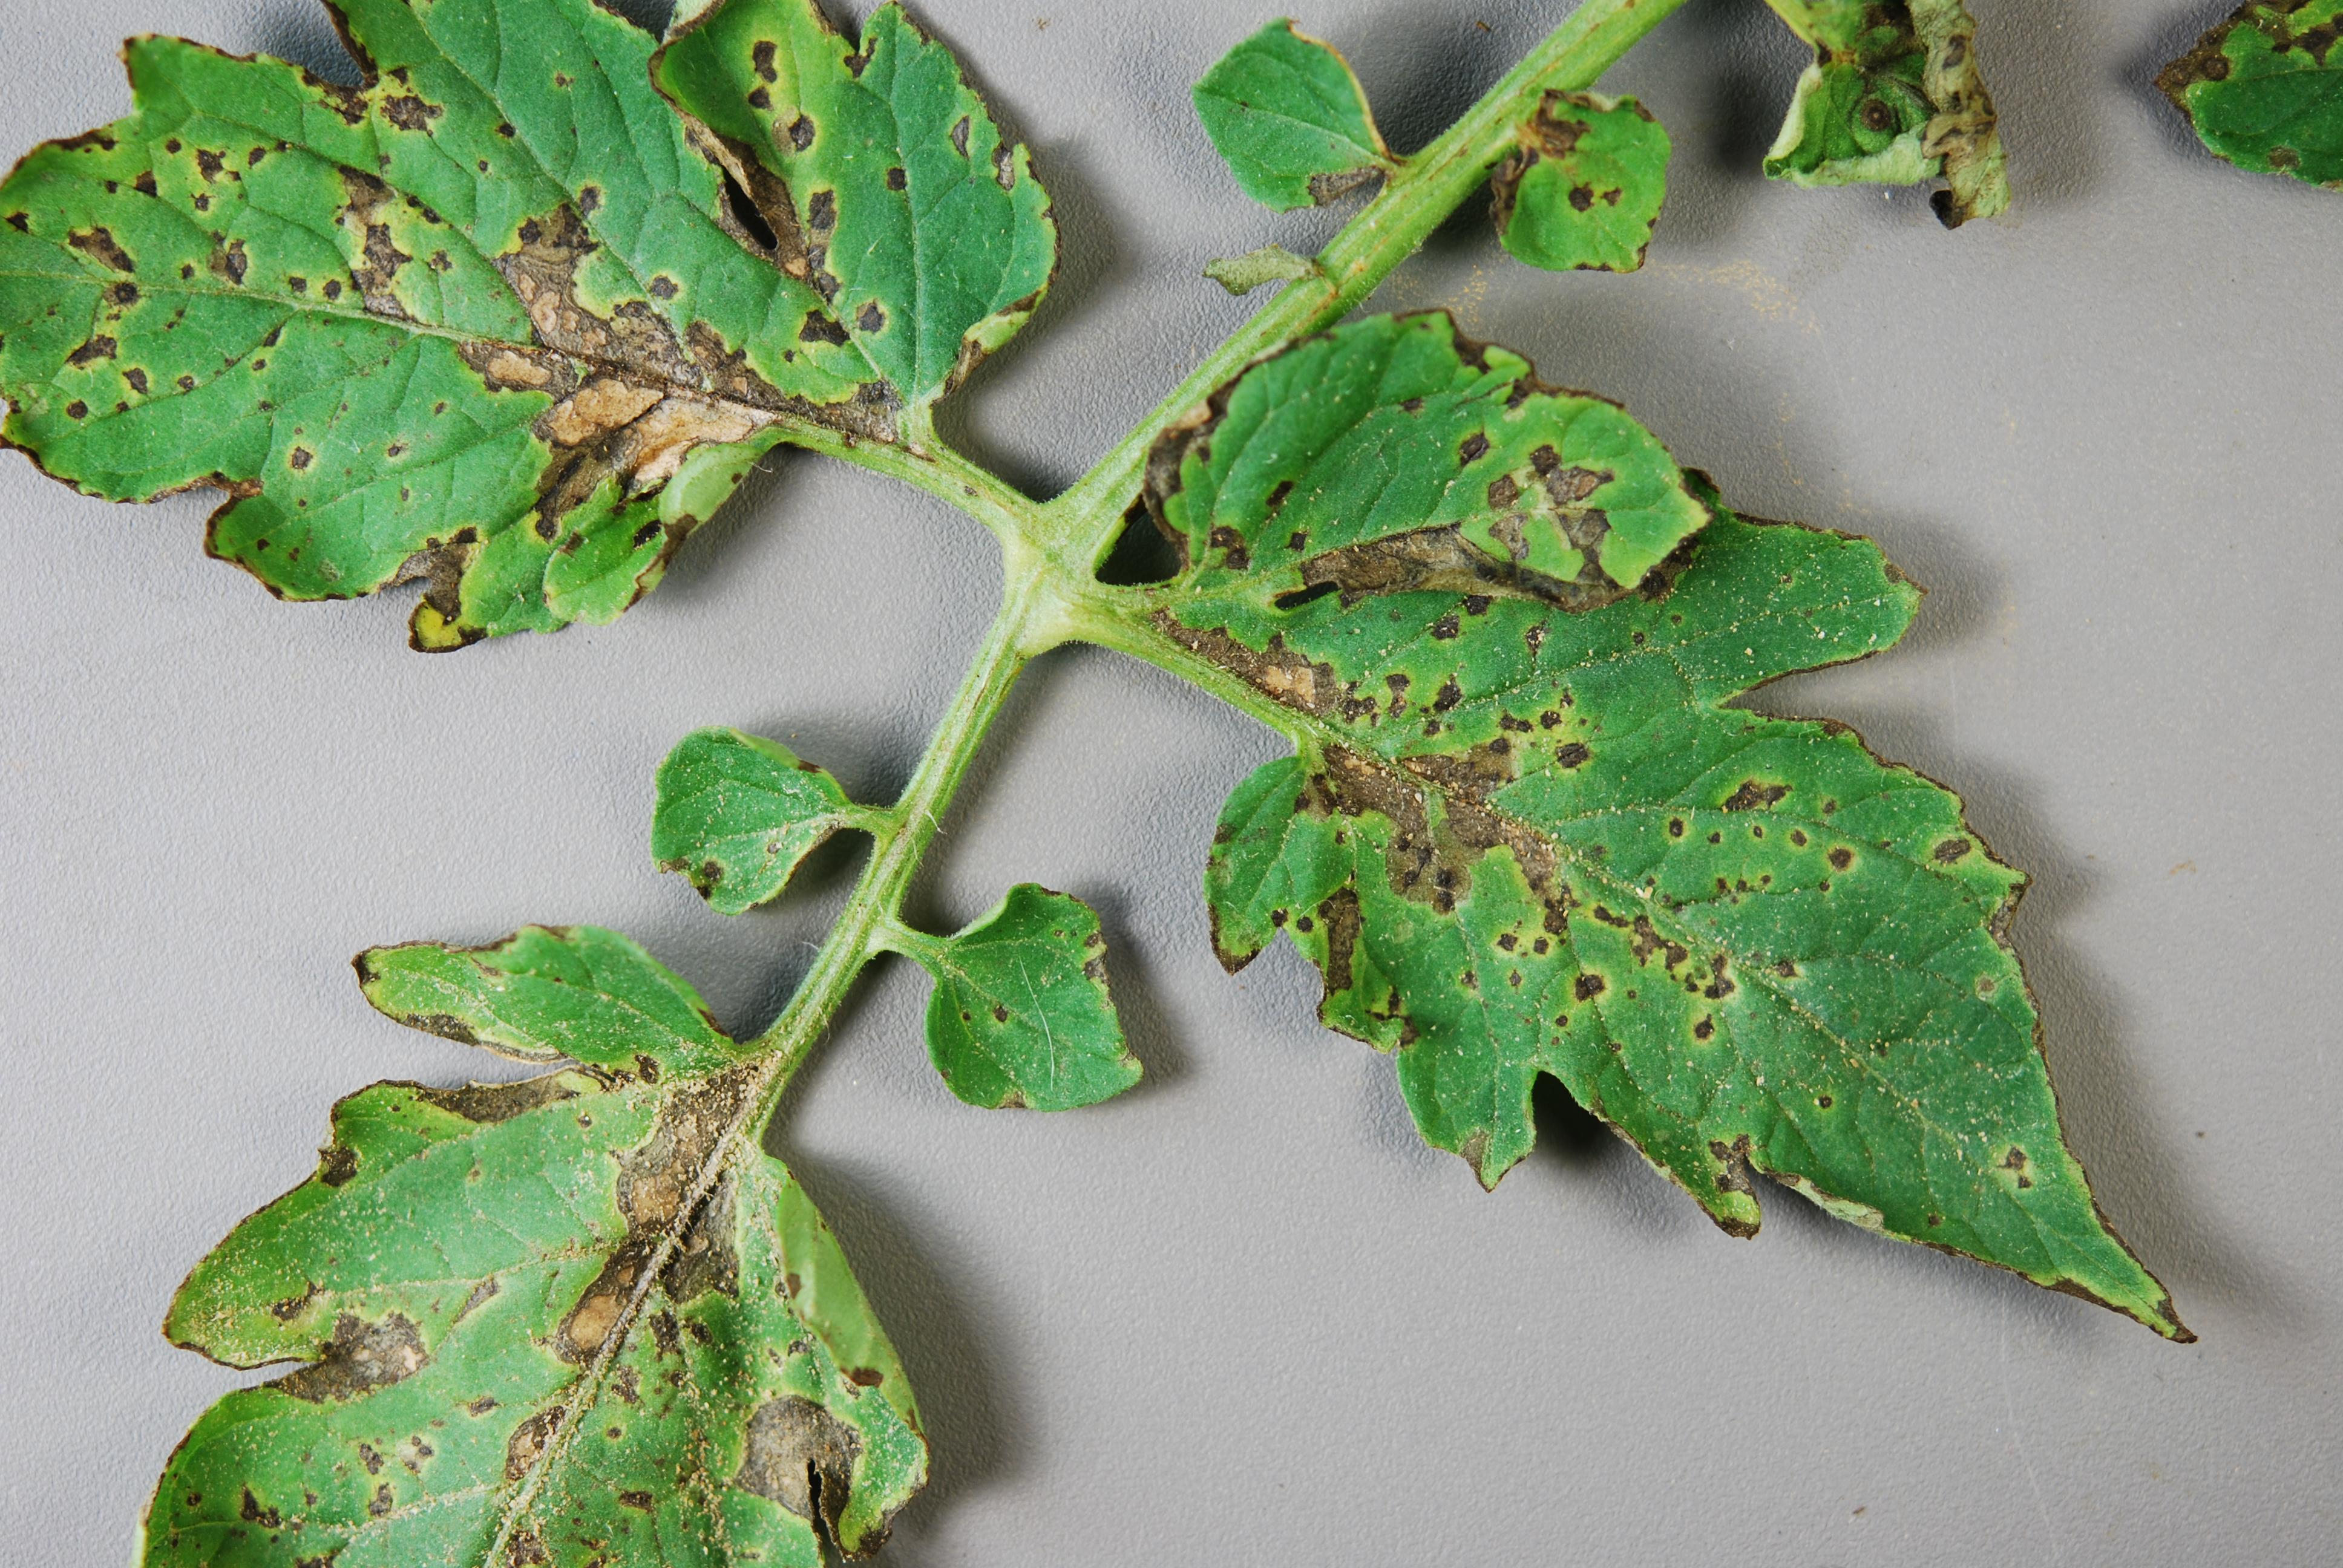Tomato Septoria leaf spot: (1134, 490, 2184, 1375), (0, 3, 1095, 688), (115, 770, 959, 1568), (1132, 306, 1746, 660), (884, 887, 1218, 1158)
